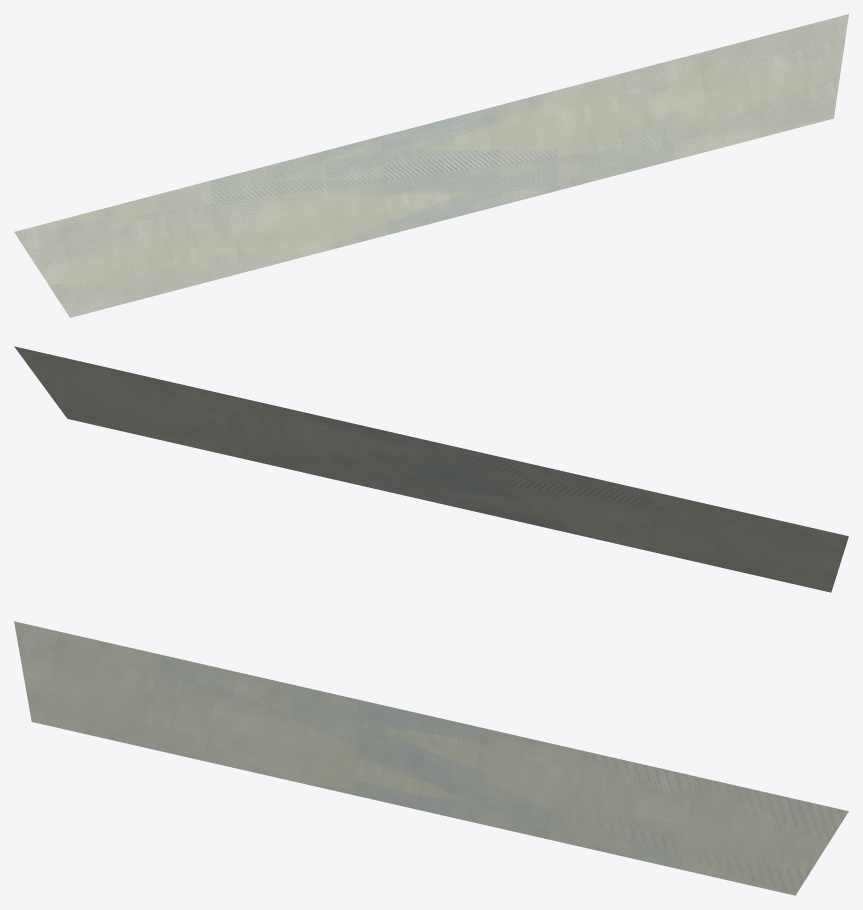
Rendered from 人民英雄纪念碑166.dae.
3 views of the same model, one above another, from view 1: azimuth 30°, elevation 25°; view 2: azimuth 150°, elevation 25°; view 3: azimuth 330°, elevation 25° (orthographic). The views are drawn at different scales.
Parts seen in each view (by area): view 1: SketchUp; view 2: SketchUp; view 3: SketchUp.
Boxes of the visible parts, left/top/right/bottom form: SketchUp: left=14, top=14, right=848, bottom=317; SketchUp: left=14, top=346, right=848, bottom=592; SketchUp: left=14, top=621, right=848, bottom=895.
Size of the model in its own units: 309 by 21.09 by 28.28.
